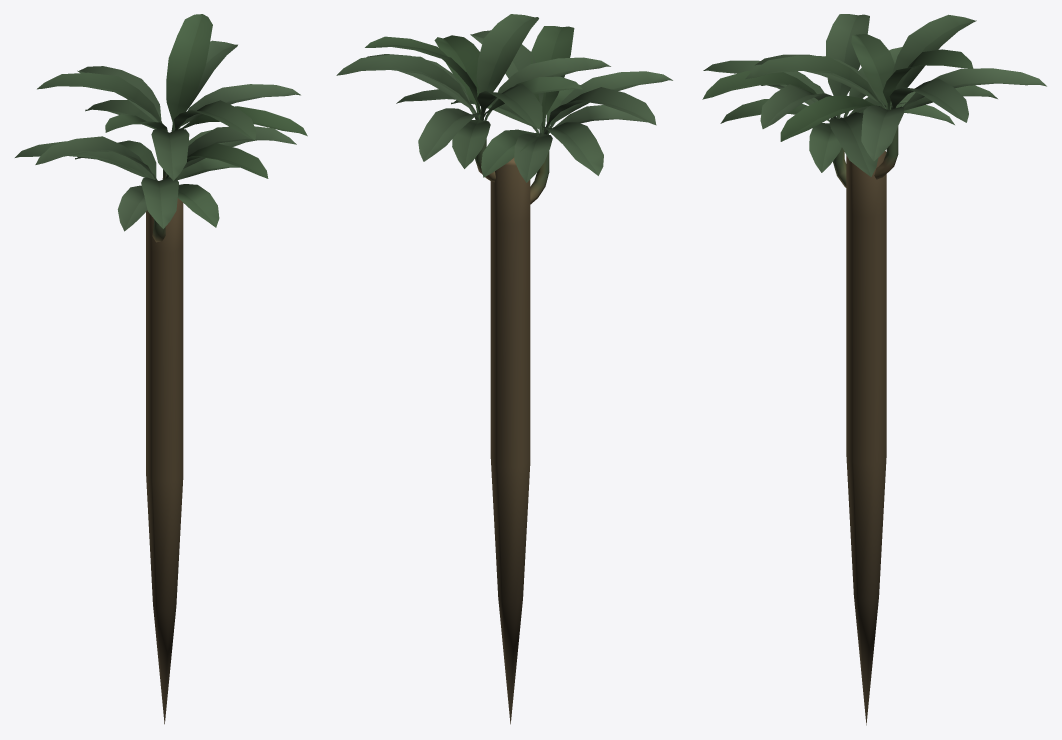
File: plants-trees-palms-palm-tree_v1.glb
The picture shows the model from 3 angles, left to right: view 1: azimuth 30°, elevation 25°; view 2: azimuth 150°, elevation 25°; view 3: azimuth 270°, elevation 25°; orthographic projection. The views are drawn at different scales.
Parts seen in each view (by area): view 1: Palm Tree_v1; view 2: Palm Tree_v1; view 3: Palm Tree_v1.
Boxes of the visible parts, x1,y1,x2,y2 form: Palm Tree_v1: (15, 14, 307, 724); Palm Tree_v1: (336, 14, 672, 724); Palm Tree_v1: (702, 14, 1046, 725).
Bounding box in the file's own units: 3.48 × 8 × 3.54.
